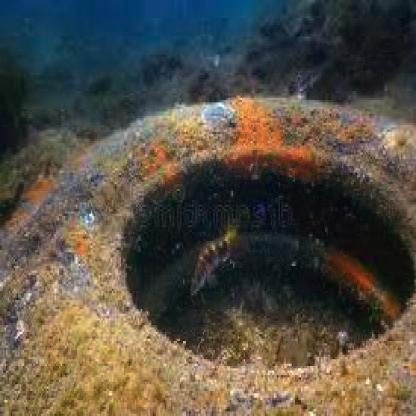tire: (16, 111, 416, 415)
